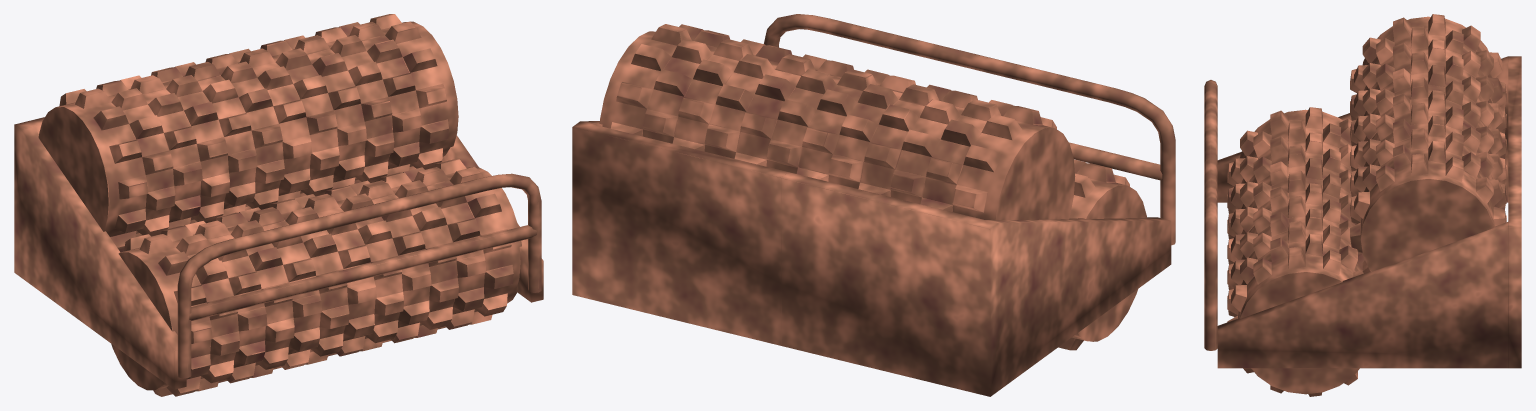
The model's file is Trituradora.fbx.
3 renders of one model, left to right at view 1: azimuth 30°, elevation 25°; view 2: azimuth 150°, elevation 25°; view 3: azimuth 270°, elevation 25°, orthographic. The views are drawn at different scales.
Visible parts, largest first — view 1: Trituradora_2, Trituradora_1, Borde, Baranda; view 2: Borde, Trituradora_2, Baranda, Trituradora_1; view 3: Trituradora_2, Borde, Trituradora_1, Baranda.
Part boxes in pixels (<box>): Trituradora_2: <box>38,14,458,249</box>; Trituradora_1: <box>111,159,521,396</box>; Borde: <box>14,117,543,389</box>; Baranda: <box>177,173,541,378</box>; Borde: <box>572,121,1171,396</box>; Trituradora_2: <box>599,24,1075,220</box>; Baranda: <box>764,14,1175,245</box>; Trituradora_1: <box>1058,159,1146,350</box>; Trituradora_2: <box>1350,14,1506,273</box>; Borde: <box>1217,56,1521,368</box>; Trituradora_1: <box>1227,107,1364,396</box>; Baranda: <box>1204,80,1217,350</box>.
Size of the model in its own units: 600 by 384 by 470.
